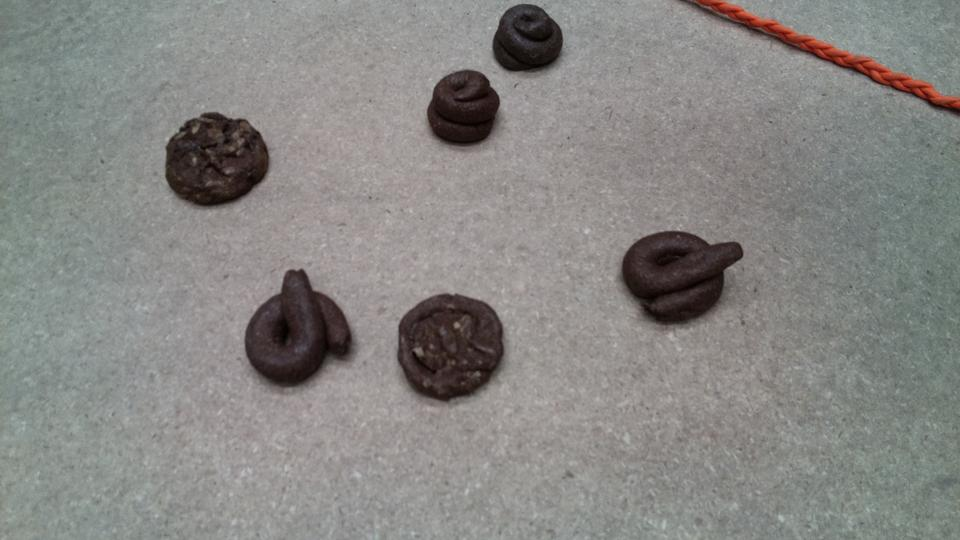poop: (240, 265, 355, 391), (395, 290, 509, 404), (618, 228, 746, 326), (162, 108, 273, 209), (425, 68, 503, 147), (490, 1, 566, 74)
rope: (706, 1, 959, 105)
